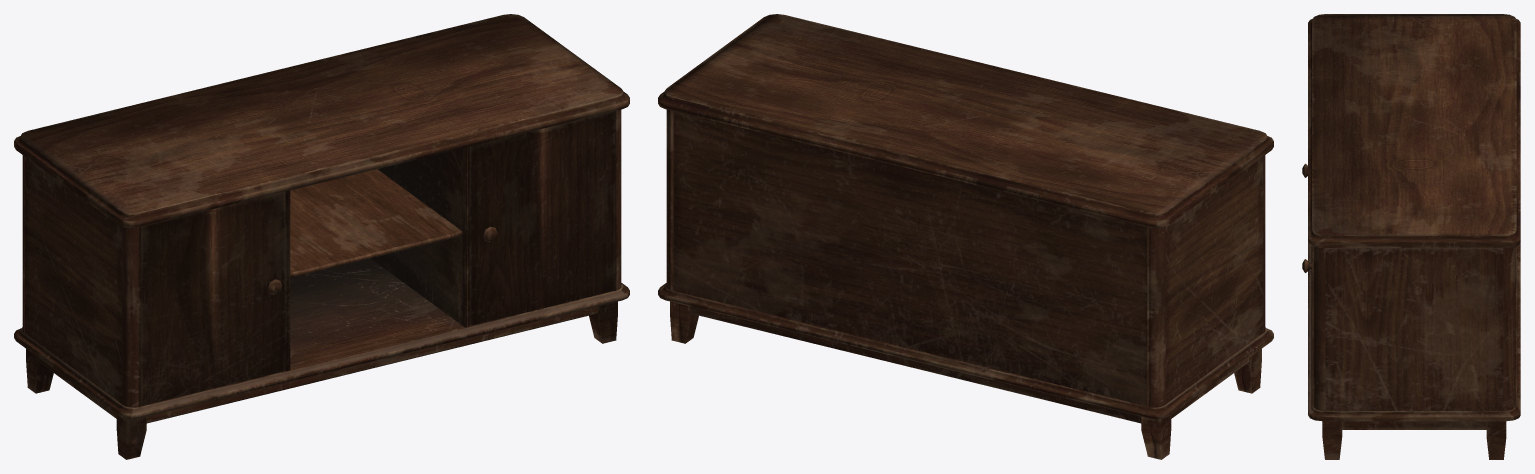
Rendered from Lemari 2.fbx.
3 renders of one model, left to right at view 1: azimuth 30°, elevation 25°; view 2: azimuth 150°, elevation 25°; view 3: azimuth 270°, elevation 25°, orthographic. The views are drawn at different scales.
Visible parts, largest first — view 1: Lemari 3; view 2: Lemari 3; view 3: Lemari 3.
Part boxes in pixels (x1,y1,x2,y2): Lemari 3: (14,14,629,459); Lemari 3: (658,14,1273,459); Lemari 3: (1302,14,1520,459).
Bounding box in the file's own units: 164 × 76.89 × 67.2.
